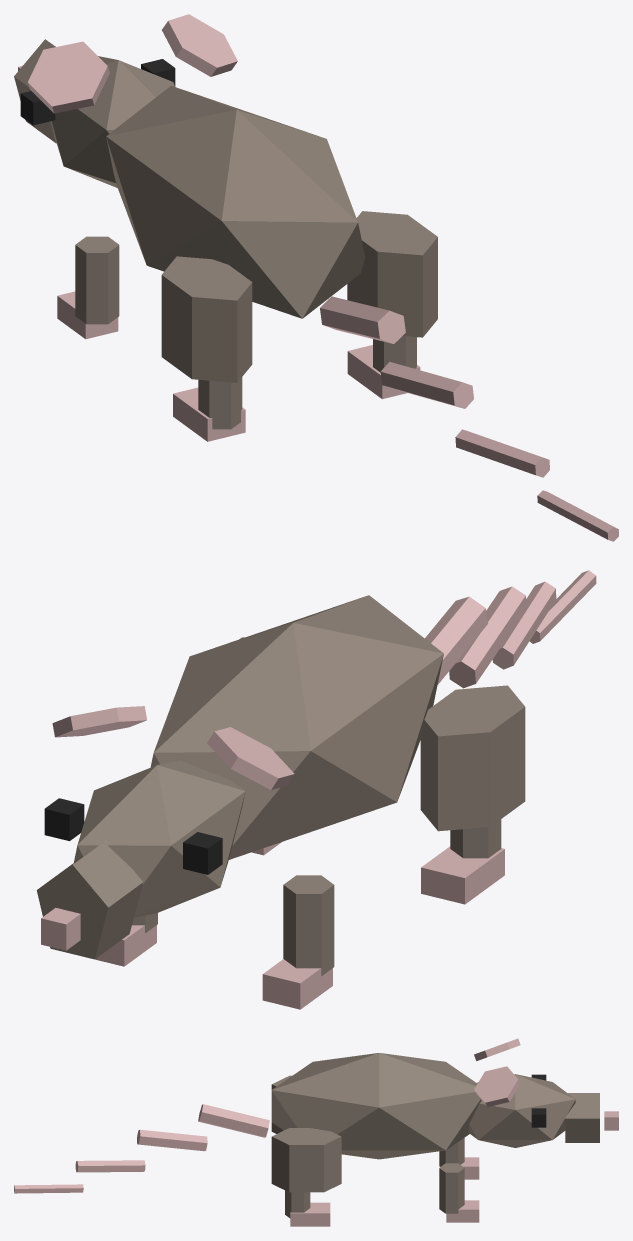
File: rat.glb
3 renders of one model, top to bottom at view 1: azimuth 30°, elevation 25°; view 2: azimuth 150°, elevation 25°; view 3: azimuth 270°, elevation 25°, orthographic. The views are drawn at different scales.
Visible parts, largest first — view 1: Rat; view 2: Rat; view 3: Rat.
Part boxes in pixels (left/top/right/bottom): Rat: left=14, top=14, right=618, bottom=541; Rat: left=36, top=570, right=596, bottom=1009; Rat: left=14, top=1038, right=618, bottom=1226.
Bounding box in the file's own units: 0.0902 × 0.0874 × 0.3332.
